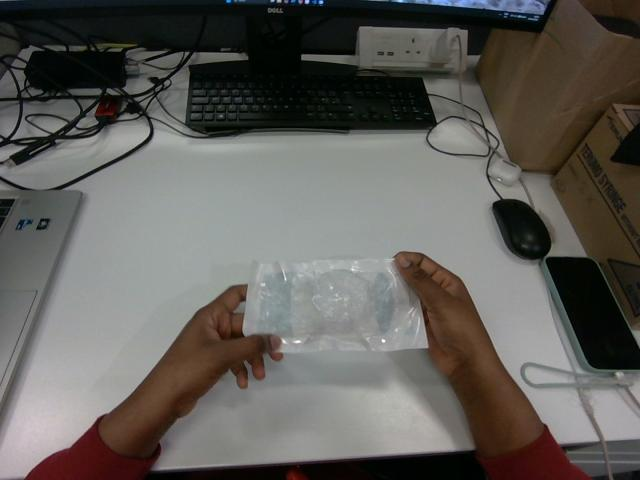gallipot: (243, 259, 426, 352)
